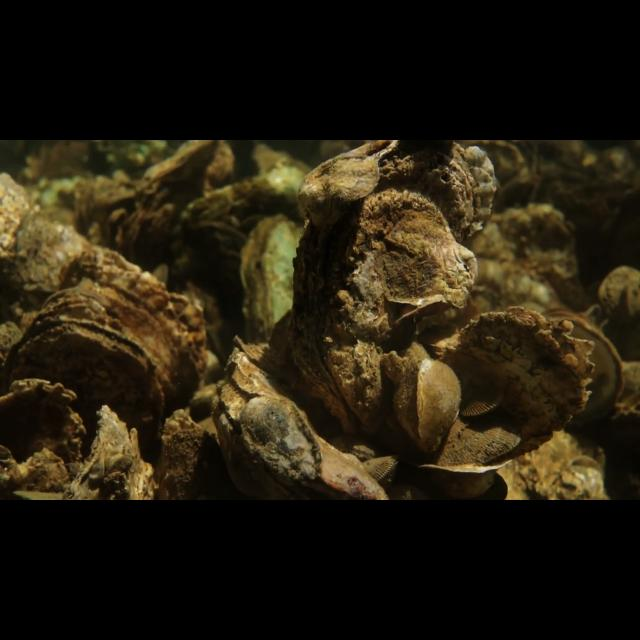Oyster-Closed: (285, 140, 499, 438), (32, 244, 206, 426), (0, 314, 164, 473), (449, 306, 598, 460), (226, 332, 343, 446), (208, 378, 316, 500), (238, 213, 302, 371), (62, 403, 156, 500), (390, 340, 462, 456), (0, 376, 86, 468), (240, 394, 326, 483), (156, 407, 234, 500), (457, 390, 506, 422), (360, 455, 400, 493)
Oyster-Open: (396, 414, 524, 500)
